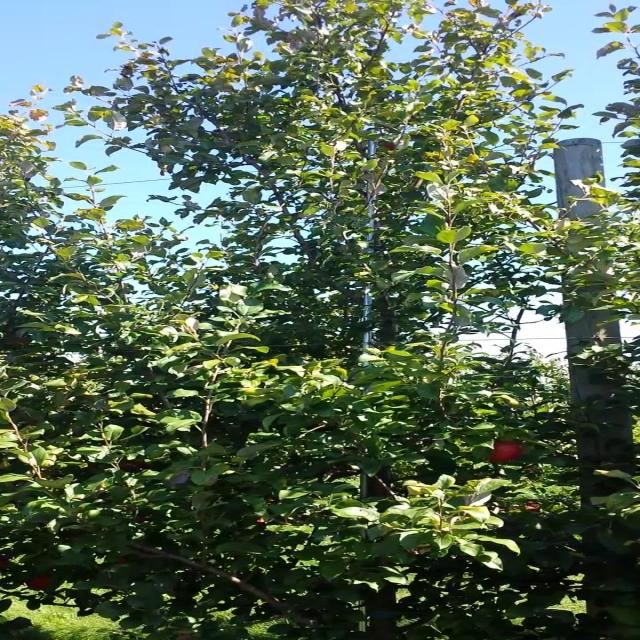apple: (490, 440, 526, 464), (28, 576, 55, 591), (383, 144, 398, 152), (120, 556, 128, 564)
